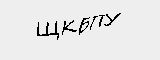Б: (78, 13, 91, 39)
К: (60, 18, 78, 39)
П: (88, 10, 103, 32)
У: (101, 11, 121, 30)
Щ: (32, 17, 59, 39)
